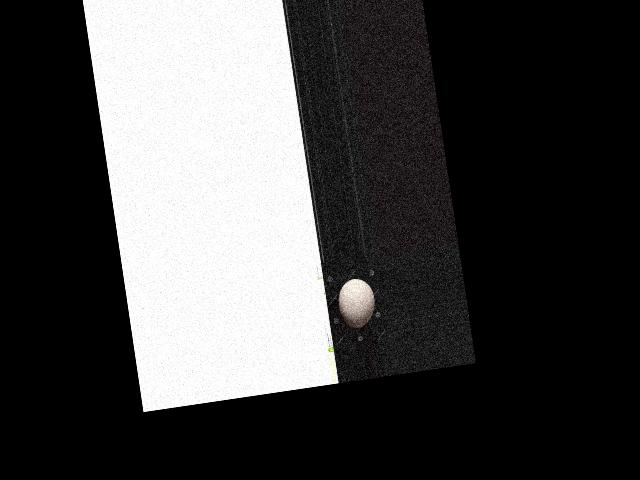egg: (335, 276, 377, 330)
